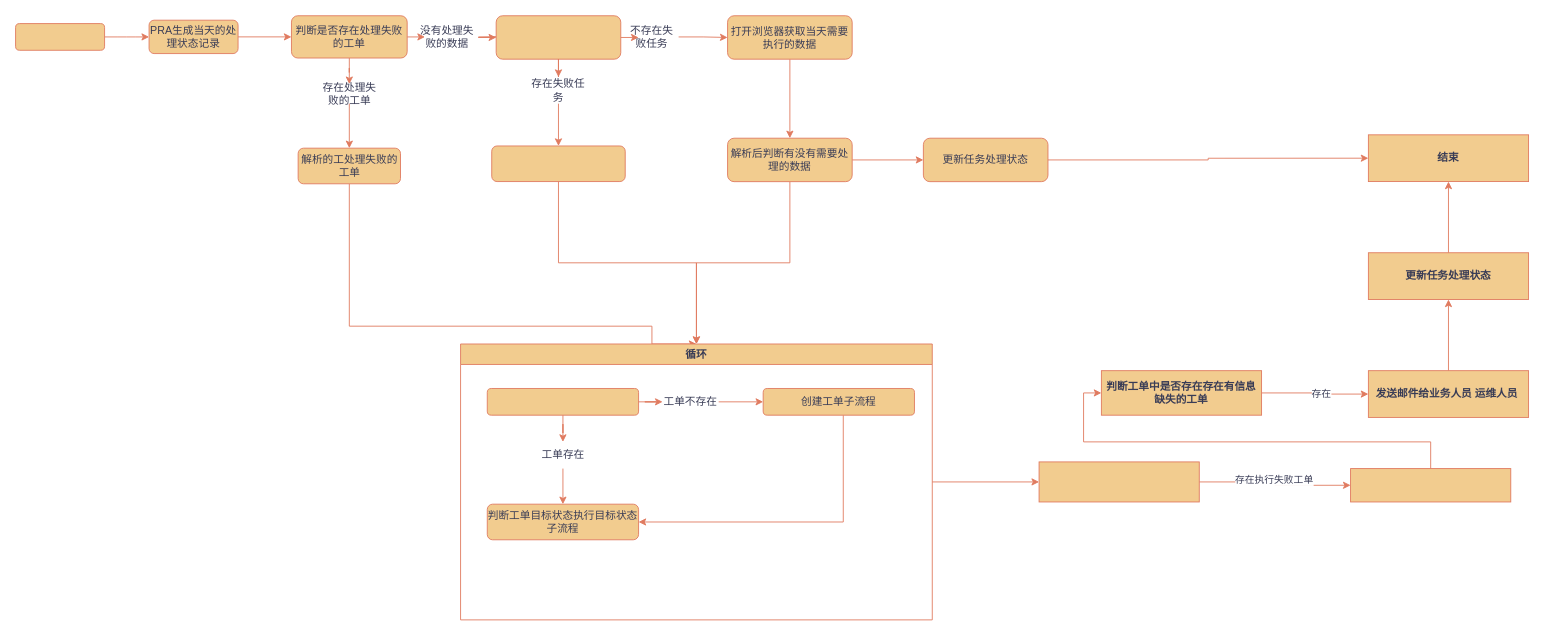
Some shapes in this 1544 by 635 pixel diagram are drawn without their labels. Each missing label, with the centre of its shape:
"判断是否有失败的工单" goes at point (1118, 481).
"判断有无执行失败的任务" goes at point (558, 37).
"发送邮件给运维人员" goes at point (1430, 485).
"开始" goes at point (60, 36).
"获取失败任务日期 获取任务失败的数据" goes at point (558, 163).
"获取工单起始状态" goes at point (562, 401).
